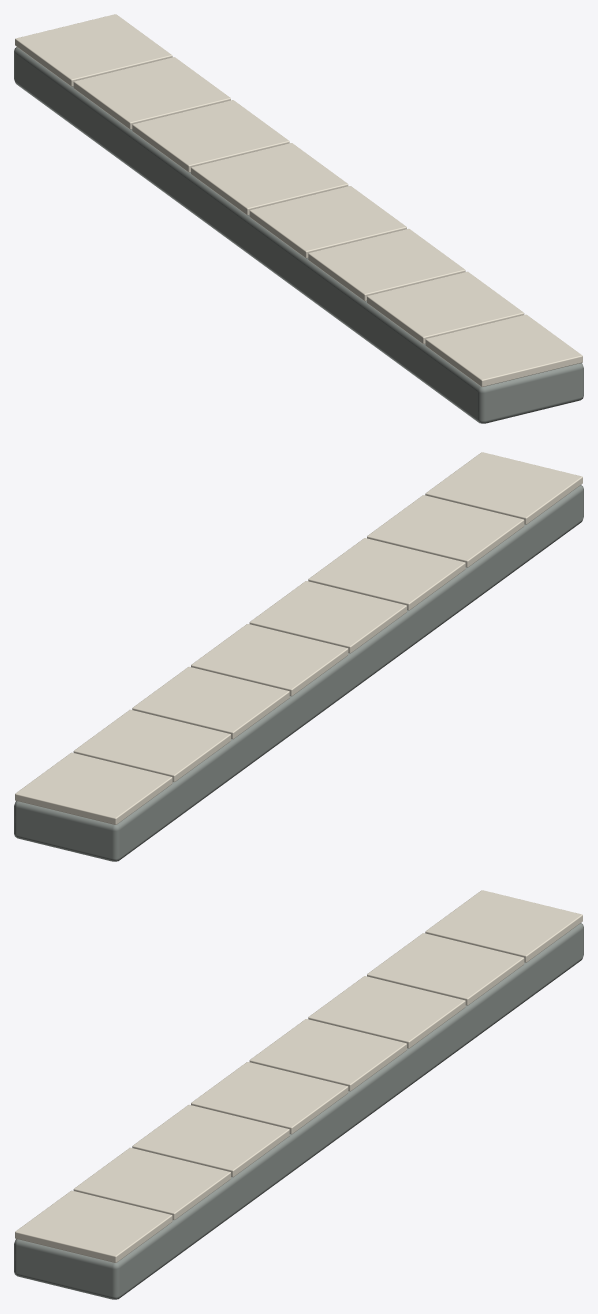
The model's file is canal-boats-and-lock-operations-canal-boats-and-lock-o-9f4b442e__31620.glb.
The picture shows the model from 3 angles, top to bottom: view 1: azimuth 30°, elevation 25°; view 2: azimuth 150°, elevation 25°; view 3: azimuth 330°, elevation 25°; orthographic projection.
Visible parts, largest first — view 1: canal-boats-and-lock-operations-chamber-coping-run; view 2: canal-boats-and-lock-operations-chamber-coping-run; view 3: canal-boats-and-lock-operations-chamber-coping-run.
Part boxes in pixels (x1,y1,x2,y2): canal-boats-and-lock-operations-chamber-coping-run: [14, 14, 583, 423]; canal-boats-and-lock-operations-chamber-coping-run: [14, 452, 583, 861]; canal-boats-and-lock-operations-chamber-coping-run: [14, 890, 583, 1299].
Bounding box in the file's own units: 0.52 × 0.2151 × 4.
